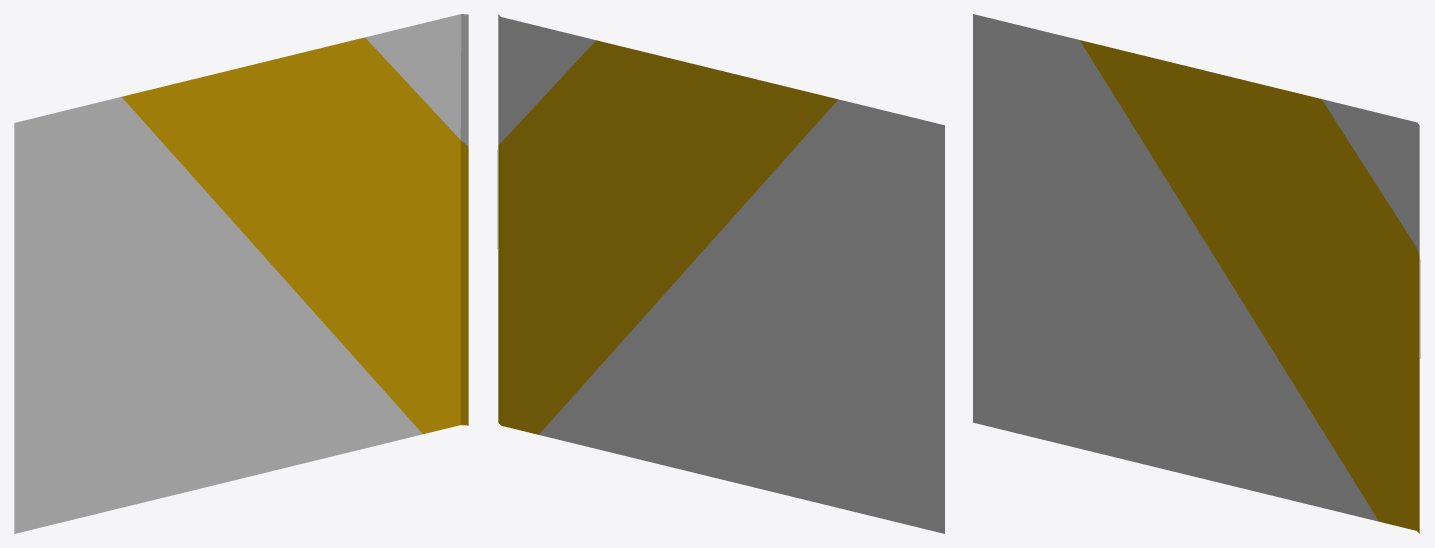
3 views of the same model, side by side, from view 1: azimuth 30°, elevation 25°; view 2: azimuth 150°, elevation 25°; view 3: azimuth 330°, elevation 25° (orthographic).
Visible parts, largest first — view 1: 5DC1C7F2401374CD3DD695A293256639; view 2: 5DC1C7F2401374CD3DD695A293256639; view 3: 5DC1C7F2401374CD3DD695A293256639.
Part boxes in pixels (x1,y1,x2,y2): 5DC1C7F2401374CD3DD695A293256639: (14,14,468,533); 5DC1C7F2401374CD3DD695A293256639: (497,14,944,533); 5DC1C7F2401374CD3DD695A293256639: (973,14,1420,533).
Size of the model in its own units: 0.5799 by 61.2 by 53.21.
